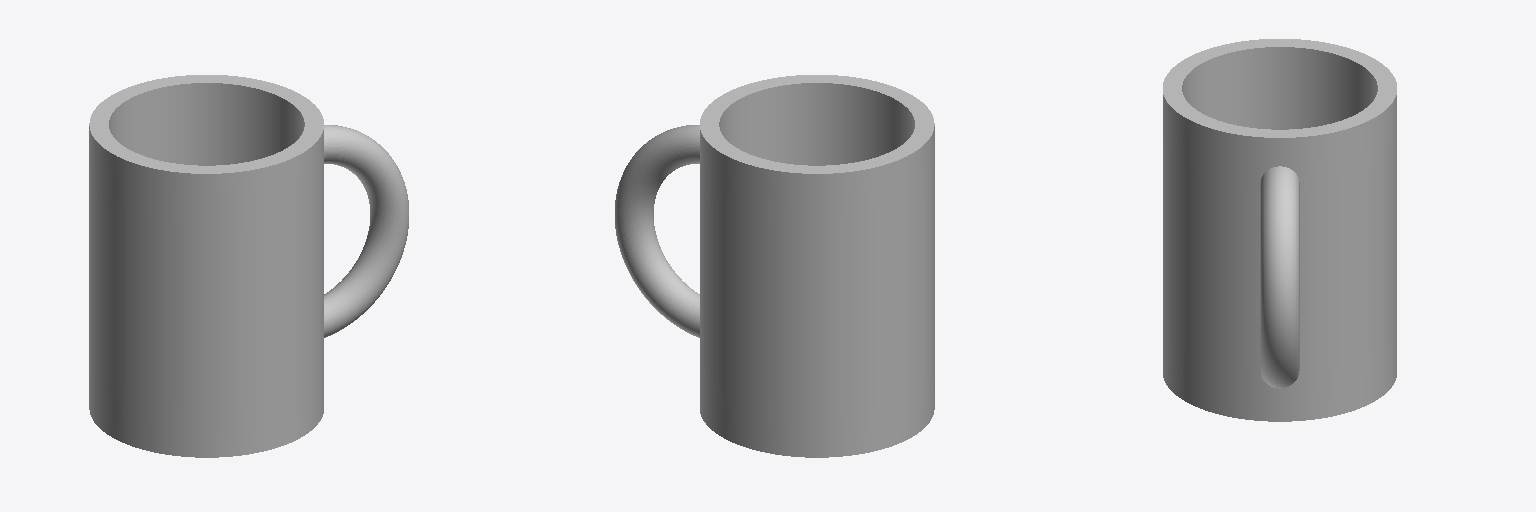
The model's file is mug.obj.
3 renders of one model, left to right at view 1: azimuth 30°, elevation 25°; view 2: azimuth 150°, elevation 25°; view 3: azimuth 270°, elevation 25°, orthographic.
Parts seen in each view (by area): view 1: Basic_Mug; view 2: Basic_Mug; view 3: Basic_Mug.
Part boxes in pixels (bbox=[...]): Basic_Mug: bbox=[89, 75, 408, 457]; Basic_Mug: bbox=[615, 75, 934, 457]; Basic_Mug: bbox=[1163, 39, 1396, 421].
Bounding box in the file's own units: 89 × 81 × 60.